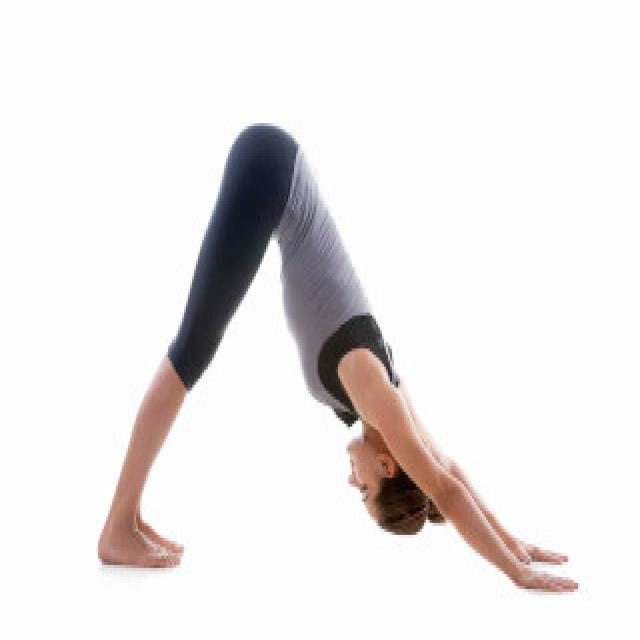yoga-pose downward: (92, 105, 580, 607)
